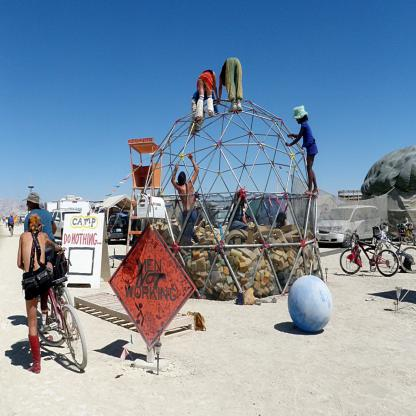Ball: (286, 275, 332, 334)
